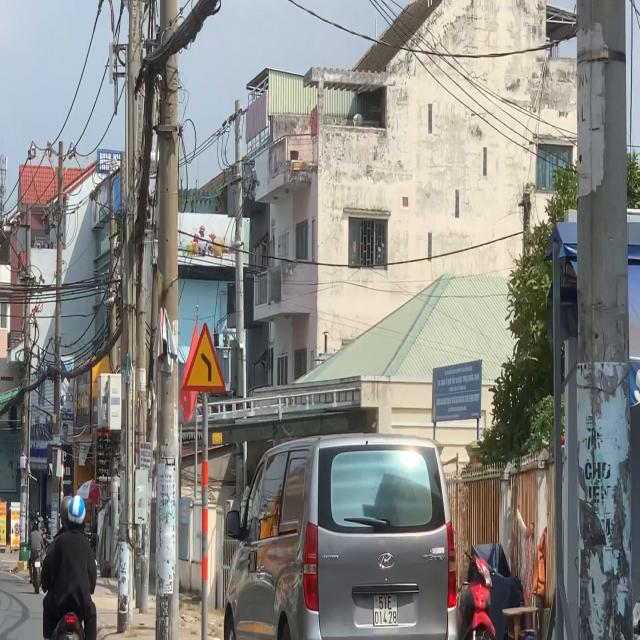Nguy hiem: (182, 321, 226, 394)
